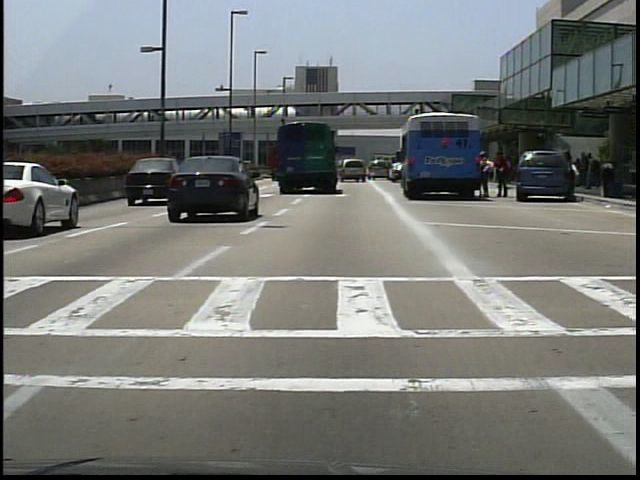person: (478, 152, 494, 198), (495, 154, 511, 199), (569, 161, 583, 201)
